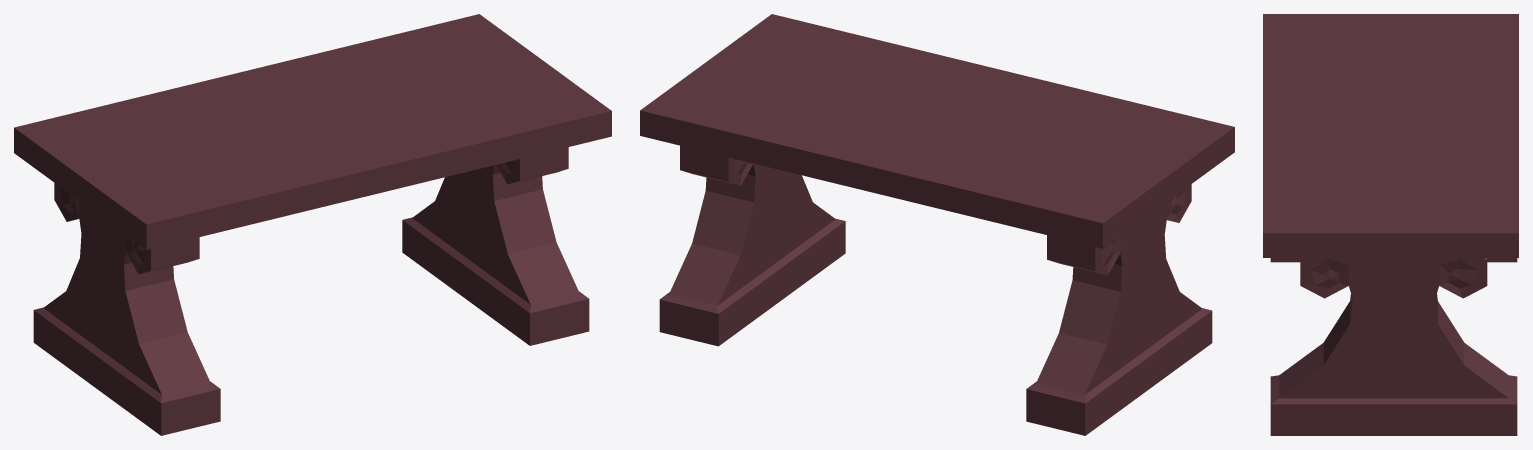
The model's file is empire-bench-table-empire.glb.
The picture shows the model from 3 angles, left to right: view 1: azimuth 30°, elevation 25°; view 2: azimuth 150°, elevation 25°; view 3: azimuth 270°, elevation 25°; orthographic projection. The views are drawn at different scales.
Parts seen in each view (by area): view 1: SM_Bench_Table_Empire; view 2: SM_Bench_Table_Empire; view 3: SM_Bench_Table_Empire.
Part boxes in pixels (x1=…): SM_Bench_Table_Empire: x1=14, y1=14, x2=611, y2=435; SM_Bench_Table_Empire: x1=640, y1=14, x2=1234, y2=435; SM_Bench_Table_Empire: x1=1263, y1=14, x2=1518, y2=435.
Size of the model in its own units: 2 by 0.9007 by 0.9883.
